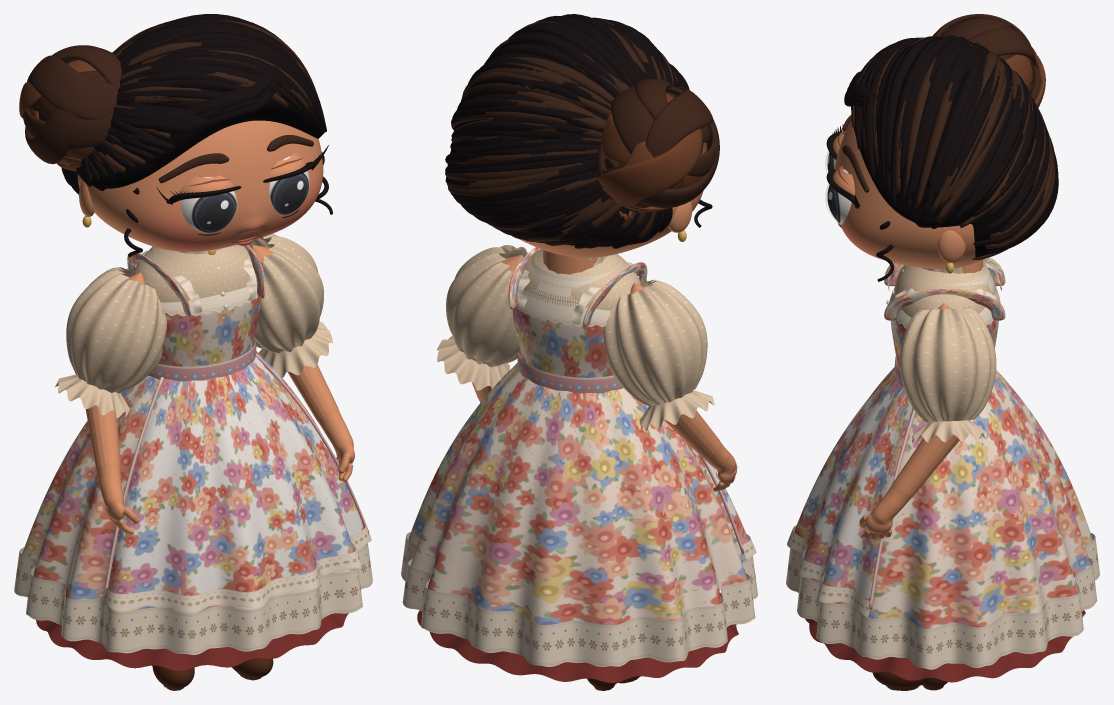
Rendered from naomi.glb.
3 renders of one model, left to right at view 1: azimuth 30°, elevation 25°; view 2: azimuth 150°, elevation 25°; view 3: azimuth 270°, elevation 25°, orthographic. The views are drawn at different scales.
Parts seen in each view (by area): view 1: Apron, Lace, Head, Skirt, Sleeve-1, Sleeve1, Bodice, ApronLace, Underskirt, Blouse, HairCap, BunLock24 (+30 smaller); view 2: Skirt, Lace, Sleeve-1, Sleeve1, Underskirt, Bodice, BunLock18, Yoke, BunLock24, Blouse, Arm-1, BunLock11 (+25 smaller); view 3: Skirt, Lace, Apron, Sleeve1, Head, Underskirt, Arm1, HairCap, Blouse, ApronLace, Strap1, BunLock11 (+38 smaller).
Boxes of the visible parts, x1,y1,x2,y2 form: Apron: (108,356,364,595); Lace: (14,543,372,654); Head: (78,120,323,251); Skirt: (22,351,364,613); Sleeve-1: (66,267,166,393); Sleeve1: (248,233,323,353); Bodice: (158,296,261,366); ApronLace: (104,526,371,613); Underskirt: (36,587,348,670); Blouse: (132,244,256,302); HairCap: (80,86,324,190); BunLock24: (27,55,117,120); Skirt: (408,363,747,625); Lace: (401,532,757,666); Sleeve-1: (603,279,707,406); Sleeve1: (446,245,527,367); Underskirt: (417,593,738,682); Bodice: (512,307,613,377); BunLock18: (598,128,702,201); Yoke: (516,255,613,327); BunLock24: (645,87,713,157); Blouse: (517,249,641,310); Arm-1: (629,283,737,491); BunLock11: (611,86,653,154); Skirt: (794,370,1092,628); Lace: (786,533,1099,669); Apron: (794,367,913,600); Sleeve1: (899,307,996,421); Head: (834,120,985,269); Underskirt: (805,604,1085,682); Arm1: (859,303,959,540); HairCap: (851,72,1020,257); Blouse: (894,263,990,317); ApronLace: (787,525,869,617); Strap1: (884,289,1005,320); BunLock11: (969,27,1035,65).
Size of the model in its own units: 0.5112 by 0.9905 by 0.4499.
Materials: 24 (7 with a texture image).
